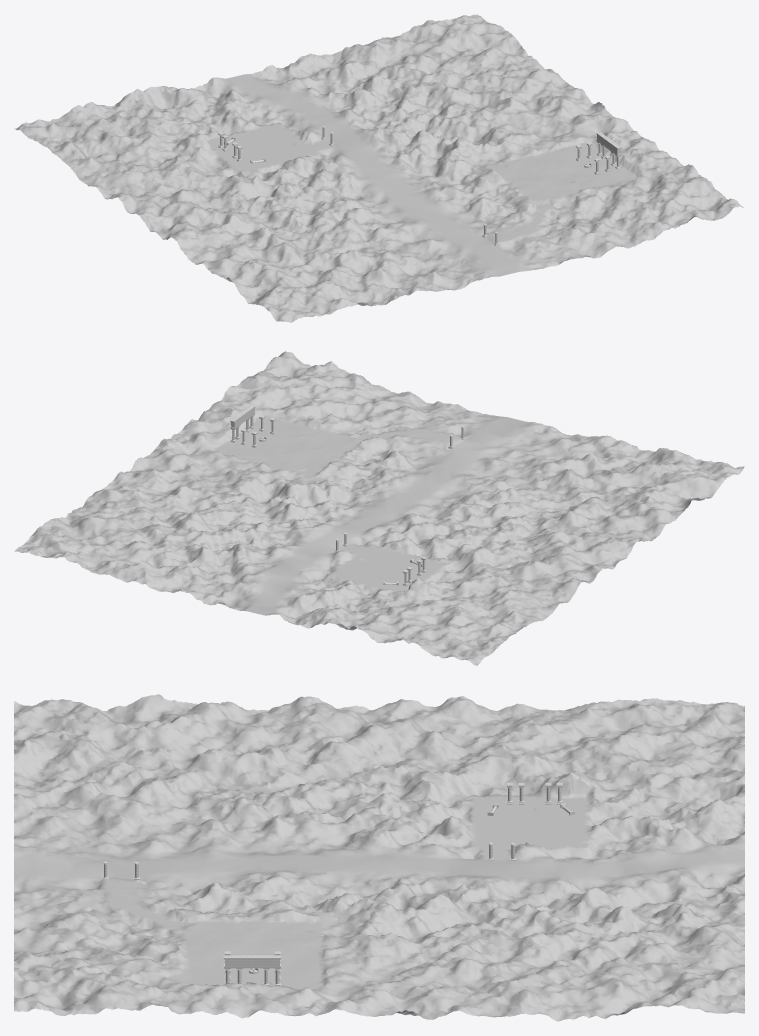
The model's file is DesertRoad.fbx.
The picture shows the model from 3 angles, top to bottom: view 1: azimuth 30°, elevation 25°; view 2: azimuth 150°, elevation 25°; view 3: azimuth 270°, elevation 25°; orthographic projection. The views are drawn at different scales.
Visible parts, largest first — view 1: Desert_Road_Plane:polySurface1; view 2: Desert_Road_Plane:polySurface1; view 3: Desert_Road_Plane:polySurface1, Cylinder014.
Boxes of the visible parts, <box> form: Desert_Road_Plane:polySurface1: <box>14,14,743,322</box>; Desert_Road_Plane:polySurface1: <box>14,351,744,665</box>; Desert_Road_Plane:polySurface1: <box>14,694,744,1021</box>; Cylinder014: <box>223,955,281,986</box>.
Size of the model in its own units: 7.49 by 0.4646 by 7.49.
